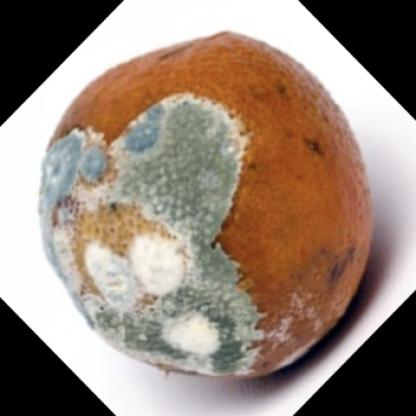rotten: (36, 33, 372, 381)
